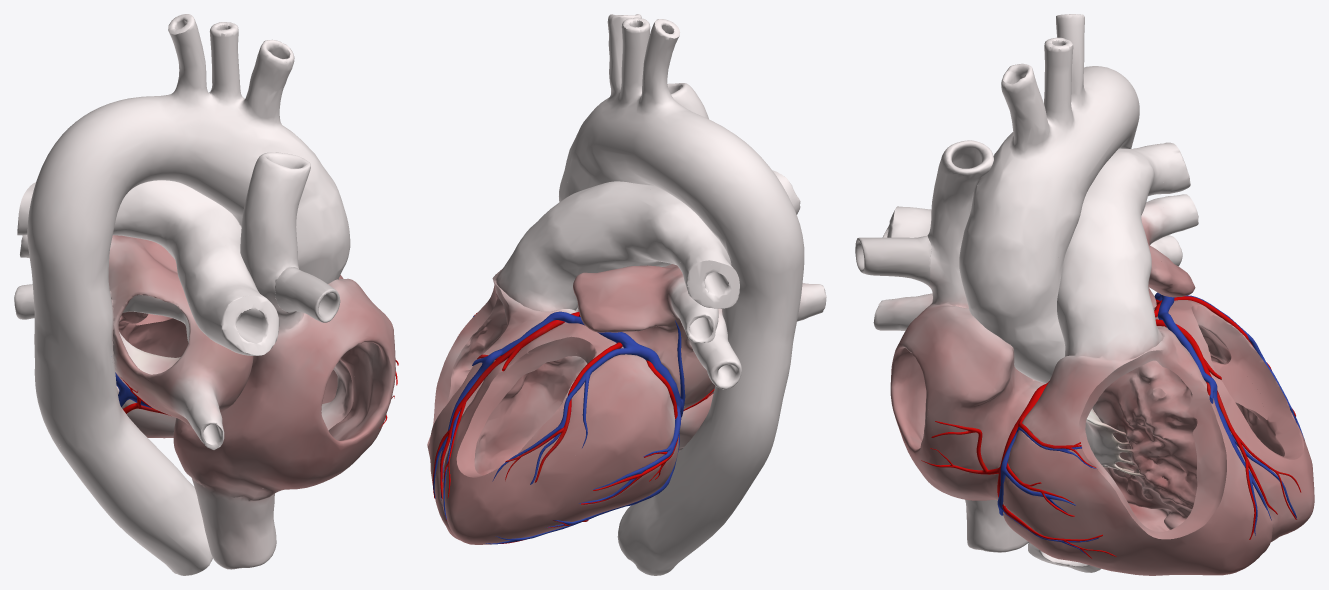
File: pulmonary.glb
3 views of the same model, side by side, from view 1: azimuth 30°, elevation 25°; view 2: azimuth 150°, elevation 25°; view 3: azimuth 270°, elevation 25° (orthographic). The views are drawn at different scales.
Parts seen in each view (by area): view 1: Default_copy4, Default_copy3, Default_Default_0; view 2: Default_copy4, Default_copy3, Default_copy1, Default_copy2; view 3: Default_copy3, Default_copy4, Default_copy2, Default_copy1, Default_Default_0.
Boxes of the visible parts, <box> form: Default_copy4: <box>14,14,350,575</box>; Default_copy3: <box>17,152,395,569</box>; Default_Default_0: <box>275,267,340,322</box>; Default_copy4: <box>442,14,826,575</box>; Default_copy3: <box>427,83,800,540</box>; Default_copy1: <box>433,311,685,544</box>; Default_copy2: <box>432,312,714,543</box>; Default_copy3: <box>882,140,1273,575</box>; Default_copy4: <box>873,14,1314,572</box>; Default_copy2: <box>921,296,1301,558</box>; Default_copy1: <box>997,292,1304,554</box>; Default_Default_0: <box>855,236,931,285</box>.
Bounding box in the file's own units: 122 × 188 × 139.
